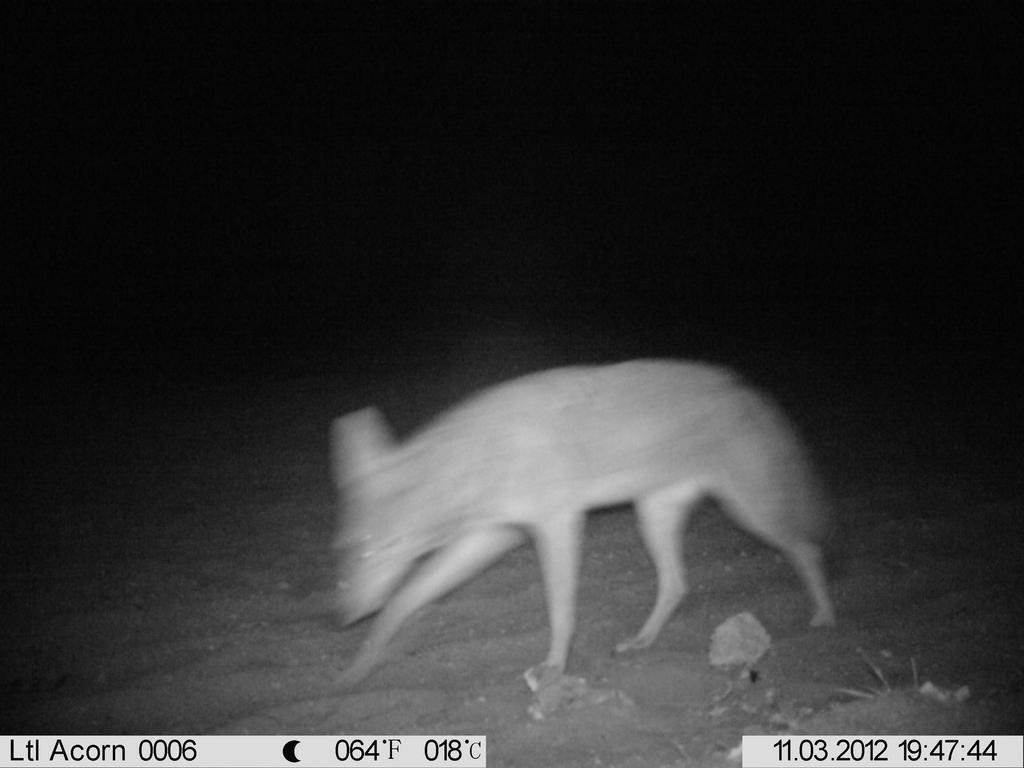coyote: (323, 351, 849, 721)
